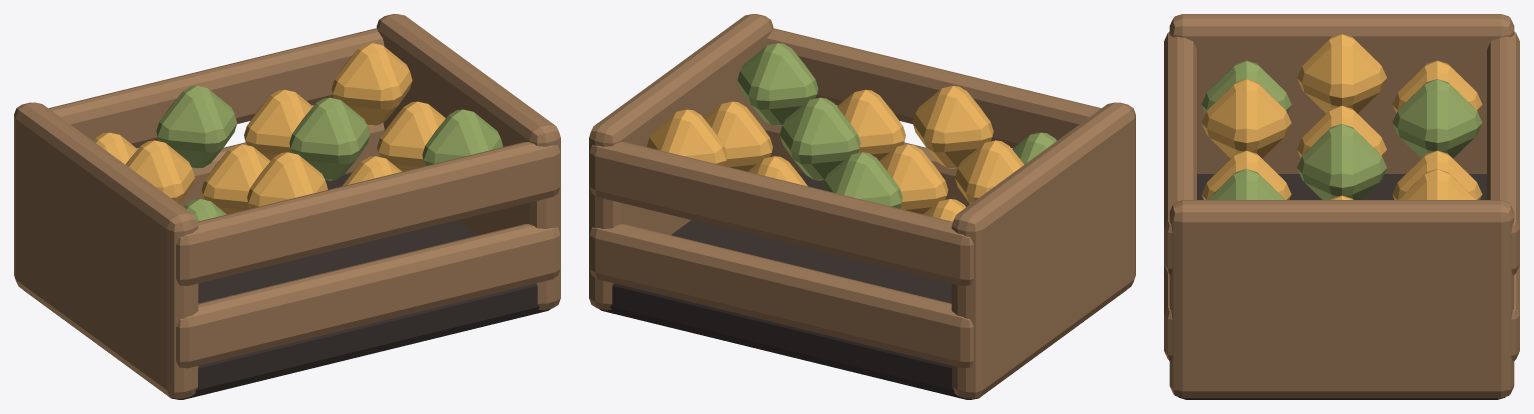
Rendered from prop_produce_crate__attachments.glb.
3 renders of one model, left to right at view 1: azimuth 30°, elevation 25°; view 2: azimuth 150°, elevation 25°; view 3: azimuth 270°, elevation 25°, orthographic. The views are drawn at different scales.
Parts seen in each view (by area): view 1: prop_produce_crate__attachments__mesh_00; view 2: prop_produce_crate__attachments__mesh_00; view 3: prop_produce_crate__attachments__mesh_00.
Boxes of the visible parts, left/top/right/bottom form: prop_produce_crate__attachments__mesh_00: left=14, top=14, right=560, bottom=399; prop_produce_crate__attachments__mesh_00: left=589, top=14, right=1135, bottom=399; prop_produce_crate__attachments__mesh_00: left=1164, top=14, right=1519, bottom=399.
Bounding box in the file's own units: 0.65 × 0.3056 × 0.485.
